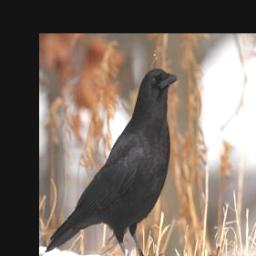Crow: (44, 63, 180, 256)
